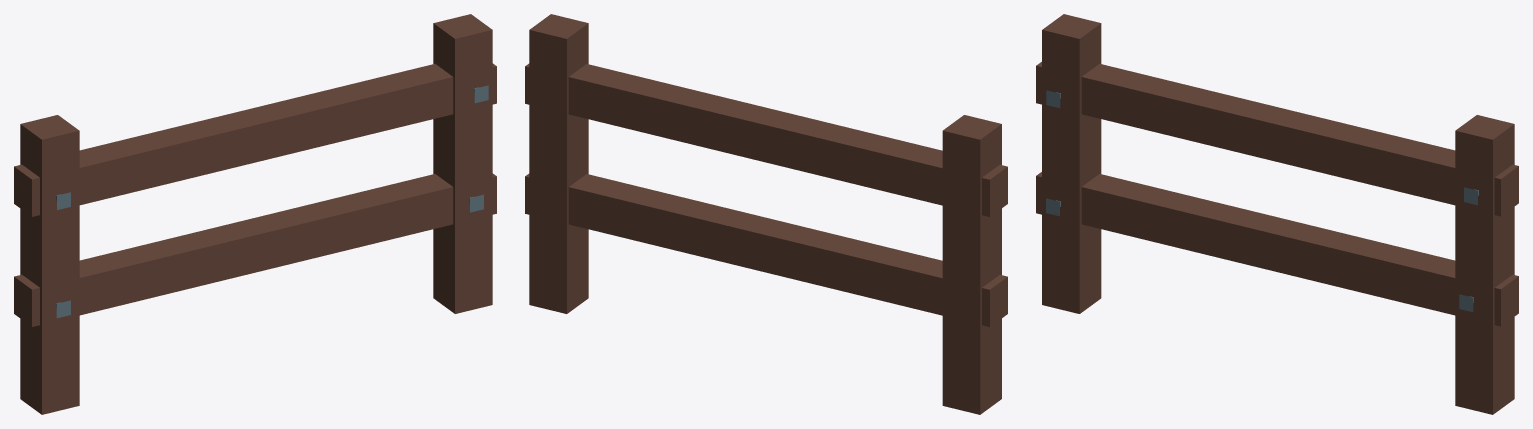
3 views of the same model, side by side, from view 1: azimuth 30°, elevation 25°; view 2: azimuth 150°, elevation 25°; view 3: azimuth 330°, elevation 25° (orthographic).
Parts seen in each view (by area): view 1: node_MeshObject836591616-PolyPaper21; view 2: node_MeshObject836591616-PolyPaper21; view 3: node_MeshObject836591616-PolyPaper21.
Part boxes in pixels (x1,y1,x2,y2): node_MeshObject836591616-PolyPaper21: (14,14,496,414); node_MeshObject836591616-PolyPaper21: (525,14,1007,414); node_MeshObject836591616-PolyPaper21: (1036,14,1518,414).
Bounding box in the file's own units: 0.99 × 0.56 × 0.1001.
